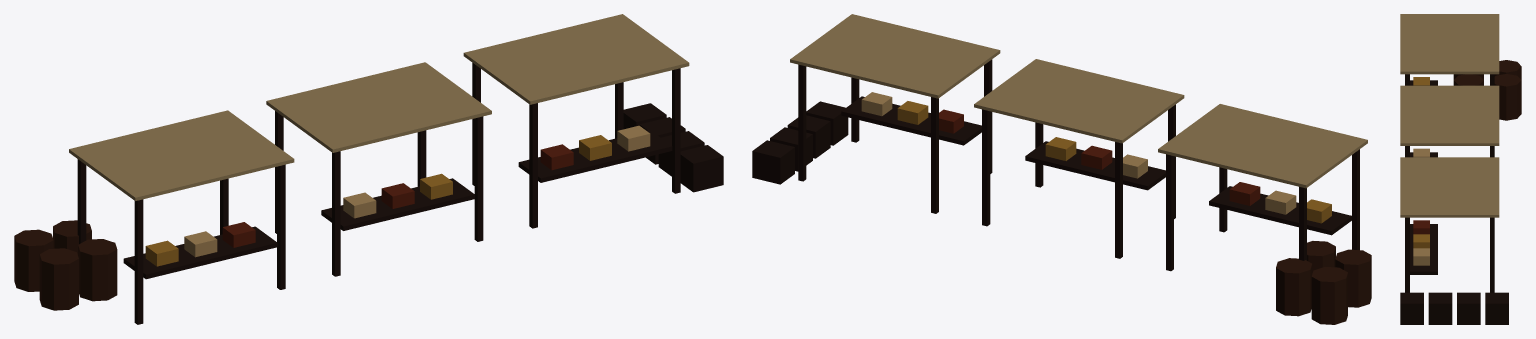
The model's file is market_stalls.fbx.
3 views of the same model, side by side, from view 1: azimuth 30°, elevation 25°; view 2: azimuth 150°, elevation 25°; view 3: azimuth 270°, elevation 25° (orthographic). The views are drawn at different scales.
Visible parts, largest first — view 1: market_stalls; view 2: market_stalls; view 3: market_stalls.
Boxes of the visible parts, x1,y1,x2,y2 form: market_stalls: (14, 14, 723, 324); market_stalls: (752, 14, 1371, 324); market_stalls: (1400, 14, 1521, 324).
Size of the model in its own units: 11.6 by 2.28 by 2.57.
